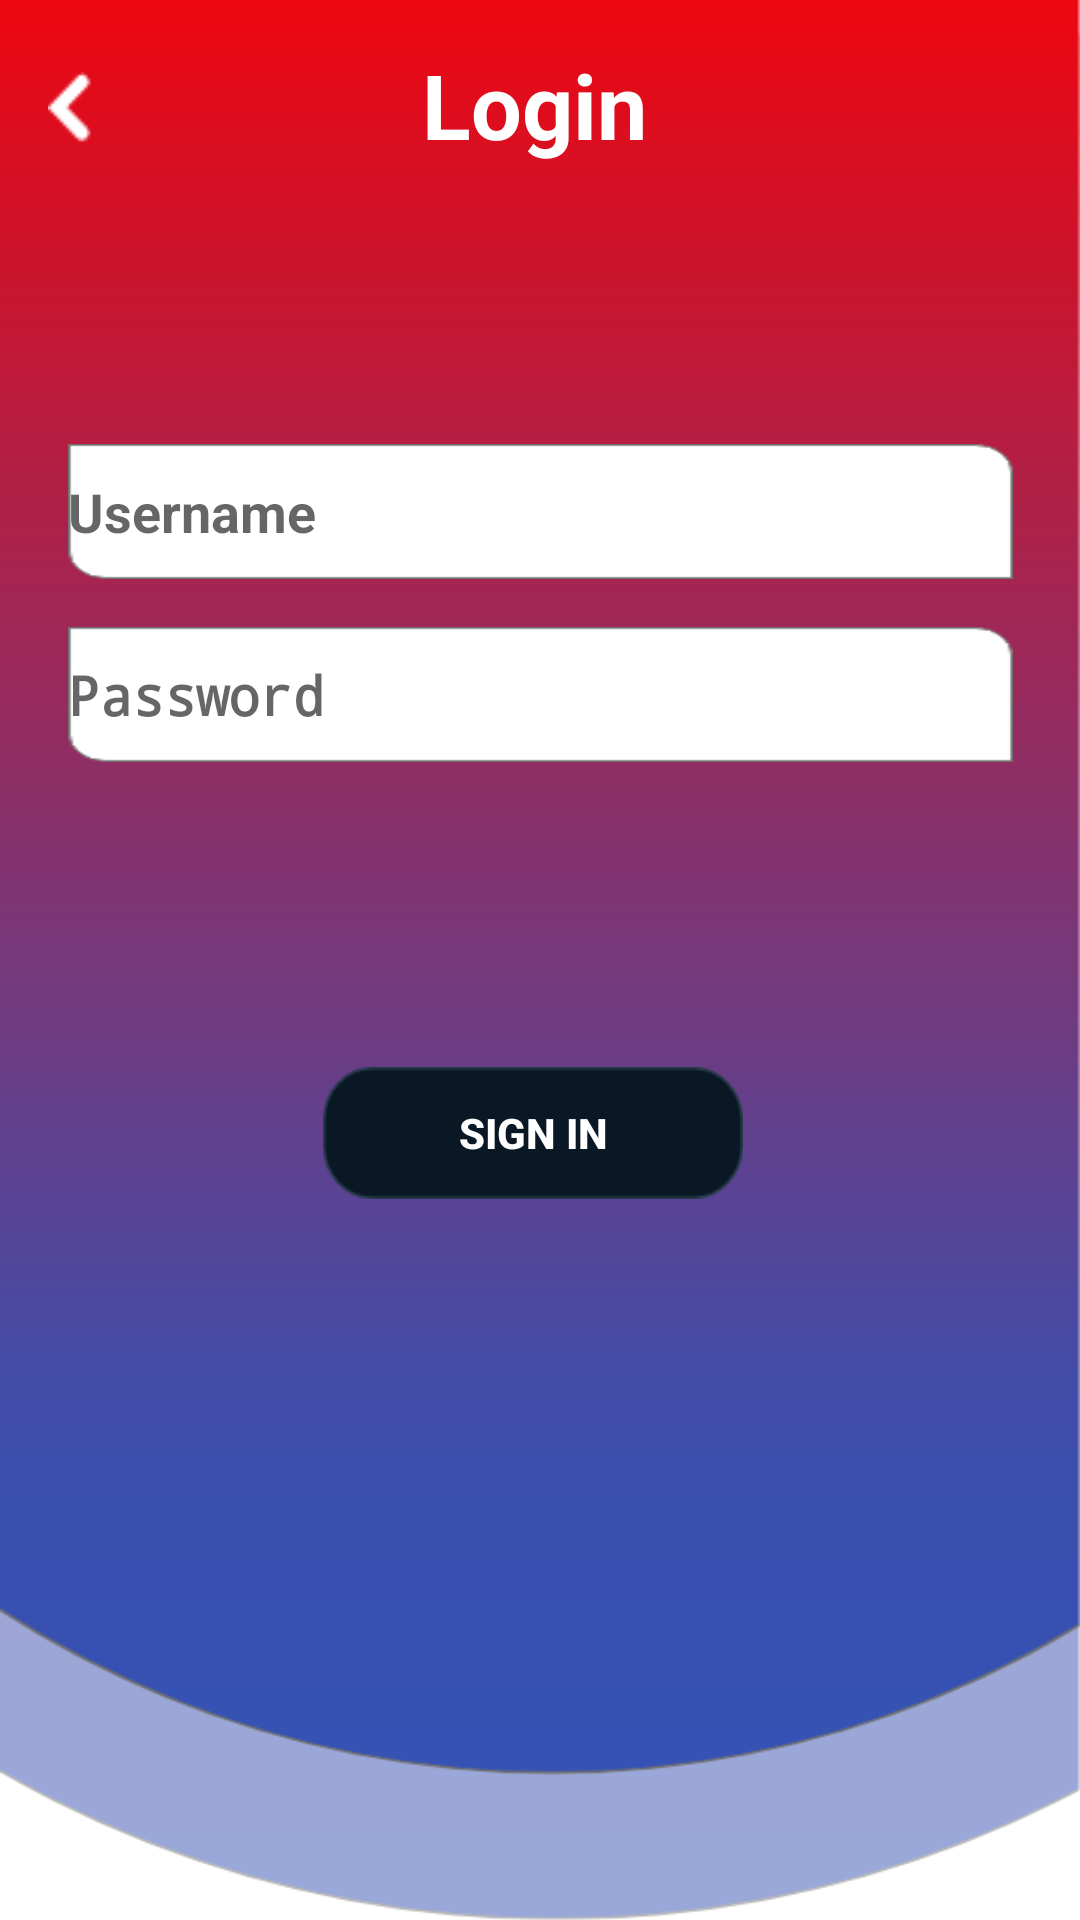

Named icons in this screenshot (1080*1920) and their bounding boxes, [left=x1, top=y1, right=x2, bottom=y2]:
back: [left=48, top=72, right=91, bottom=142]
